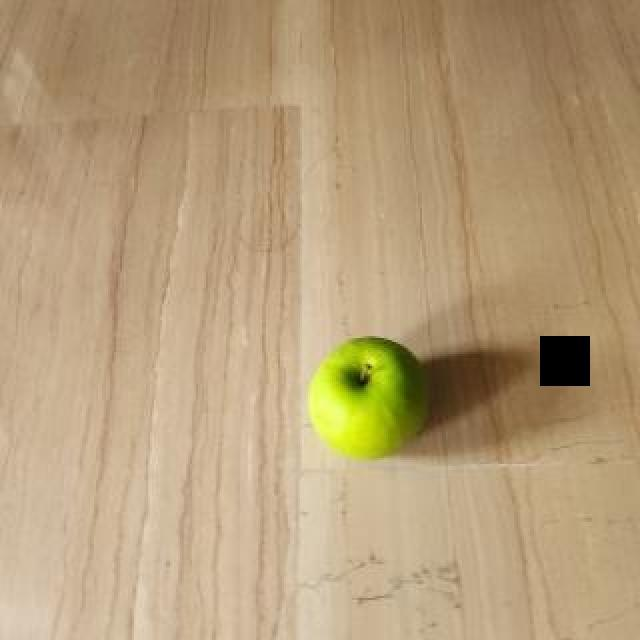green apple: (307, 330, 430, 456)
